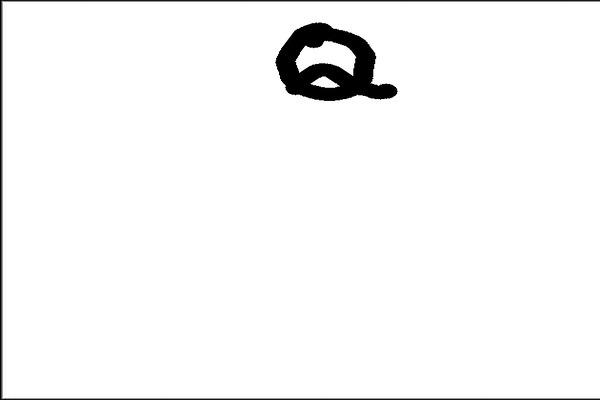Q: (263, 17, 399, 106)
